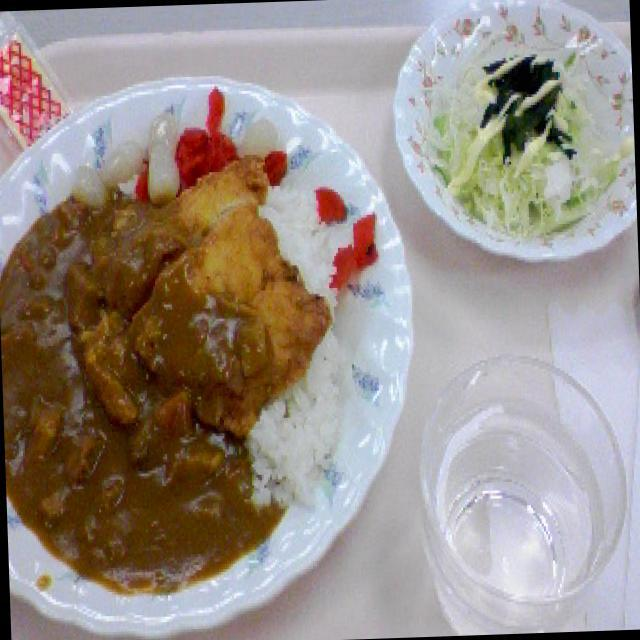Beef Curry: (0, 173, 283, 597)
